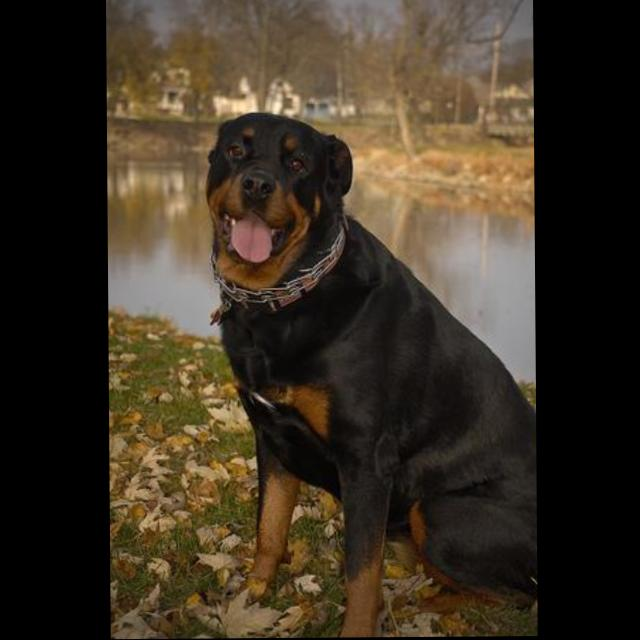rottweiler: (206, 110, 538, 640)
